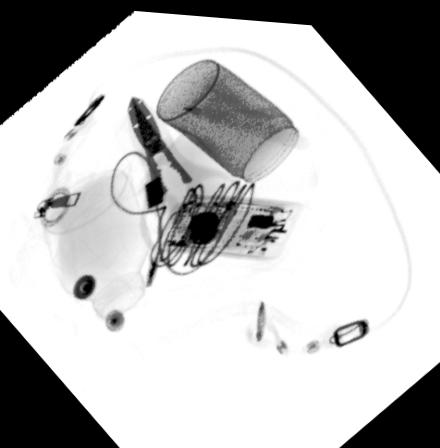Scissors: (124, 91, 243, 252)
